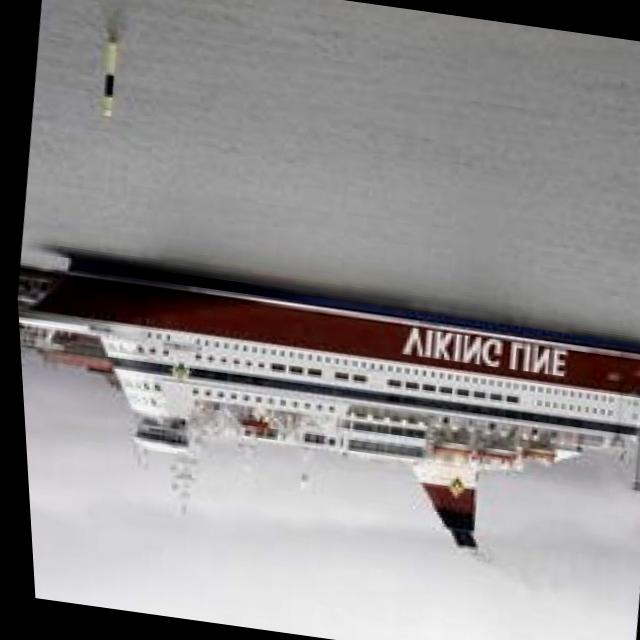ship2: (14, 266, 640, 548)
